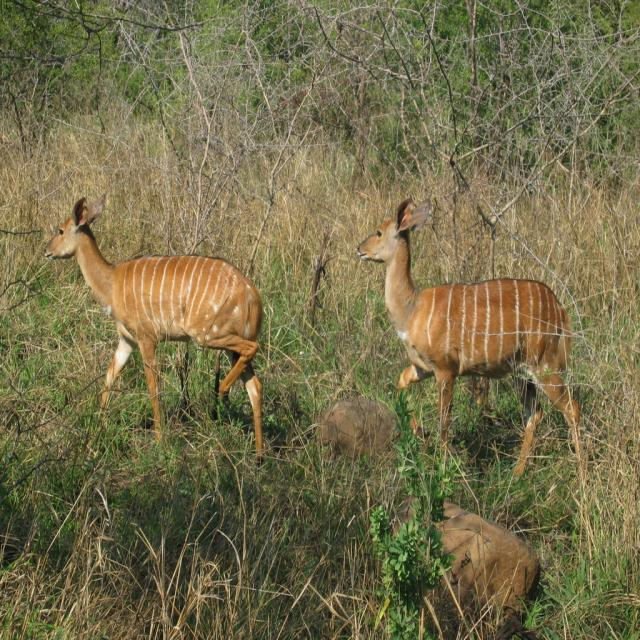Deer: (354, 188, 594, 498), (44, 193, 265, 469)
